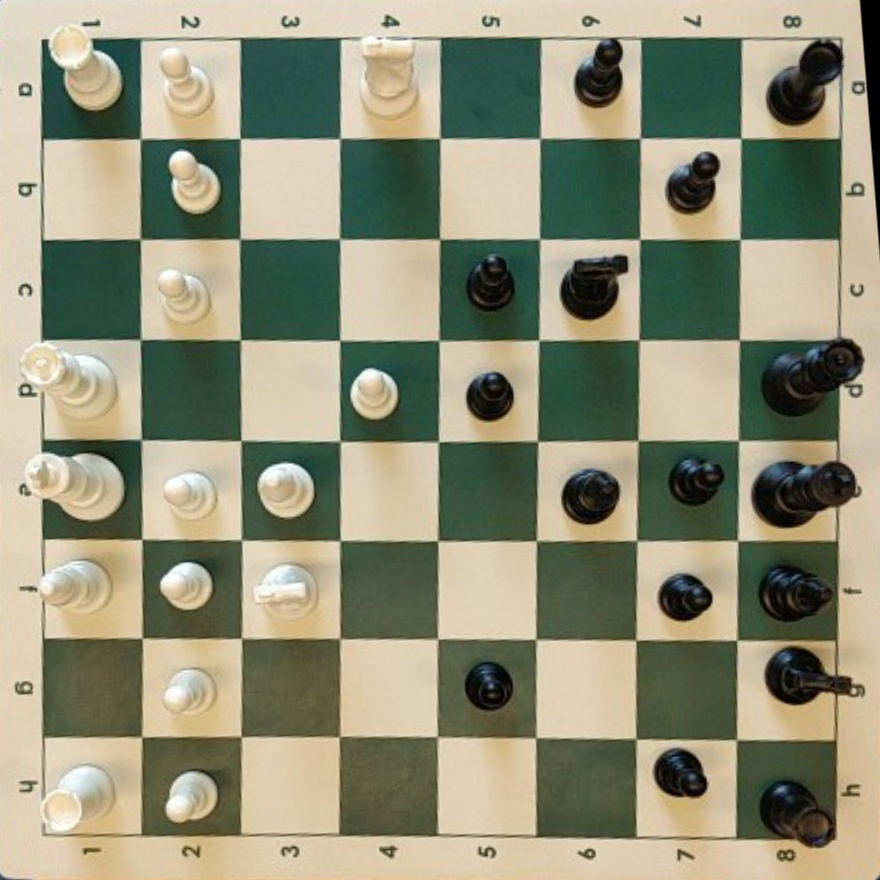black-bishop: (760, 564, 833, 621), (562, 468, 620, 524)
black-king: (754, 460, 858, 527)
black-knight: (766, 647, 865, 704), (560, 254, 628, 319)
black-pawn: (574, 37, 624, 105), (667, 151, 720, 212), (654, 749, 709, 798), (467, 254, 515, 310), (670, 456, 725, 504), (659, 573, 713, 621), (465, 661, 514, 710), (466, 371, 514, 420)
black-queen: (763, 340, 864, 415)
black-rook: (767, 39, 842, 124), (760, 779, 834, 847)
white-bishop: (37, 559, 111, 613), (257, 462, 314, 519)
white-king: (20, 451, 125, 520)
white-knight: (254, 563, 316, 619), (362, 62, 418, 118)
white-pawn: (159, 48, 214, 117), (167, 149, 221, 214), (157, 268, 210, 324), (164, 770, 218, 824), (159, 561, 213, 610), (162, 470, 216, 518), (350, 368, 399, 419), (163, 667, 215, 714)
white-queen: (18, 345, 117, 418)
white-rook: (48, 28, 123, 112), (40, 764, 114, 835)
